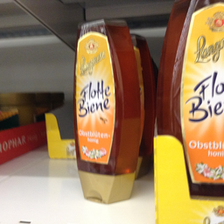honey: (157, 1, 224, 201), (75, 19, 144, 204)
